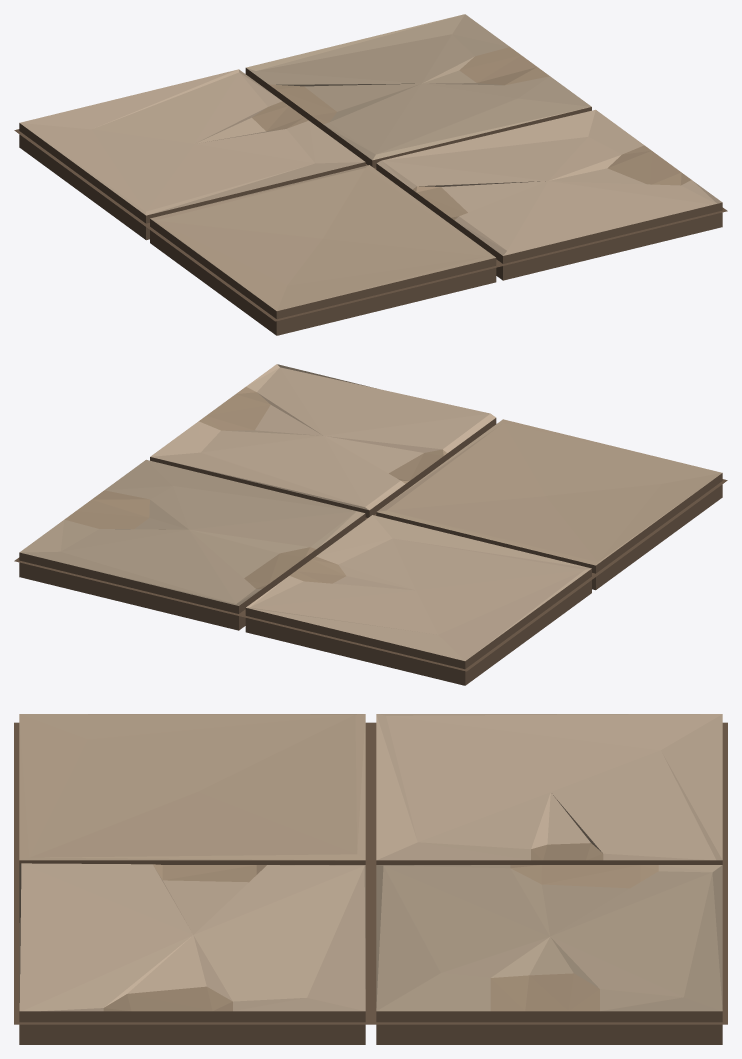
Rendered from SM_Ground_PavingTile_Rough_02.fbx.
The picture shows the model from 3 angles, top to bottom: view 1: azimuth 30°, elevation 25°; view 2: azimuth 150°, elevation 25°; view 3: azimuth 270°, elevation 25°; orthographic projection. The views are drawn at different scales.
Visible parts, largest first — view 1: SM_Ground_PavingTile_Rough_02; view 2: SM_Ground_PavingTile_Rough_02; view 3: SM_Ground_PavingTile_Rough_02.
Boxes of the visible parts, left/top/right/bottom form: SM_Ground_PavingTile_Rough_02: left=14, top=14, right=727, bottom=335; SM_Ground_PavingTile_Rough_02: left=14, top=364, right=727, bottom=685; SM_Ground_PavingTile_Rough_02: left=14, top=714, right=727, bottom=1044.
Size of the model in its own units: 1 by 0.0593 by 1.
Materials: 1 (1 with a texture image).
